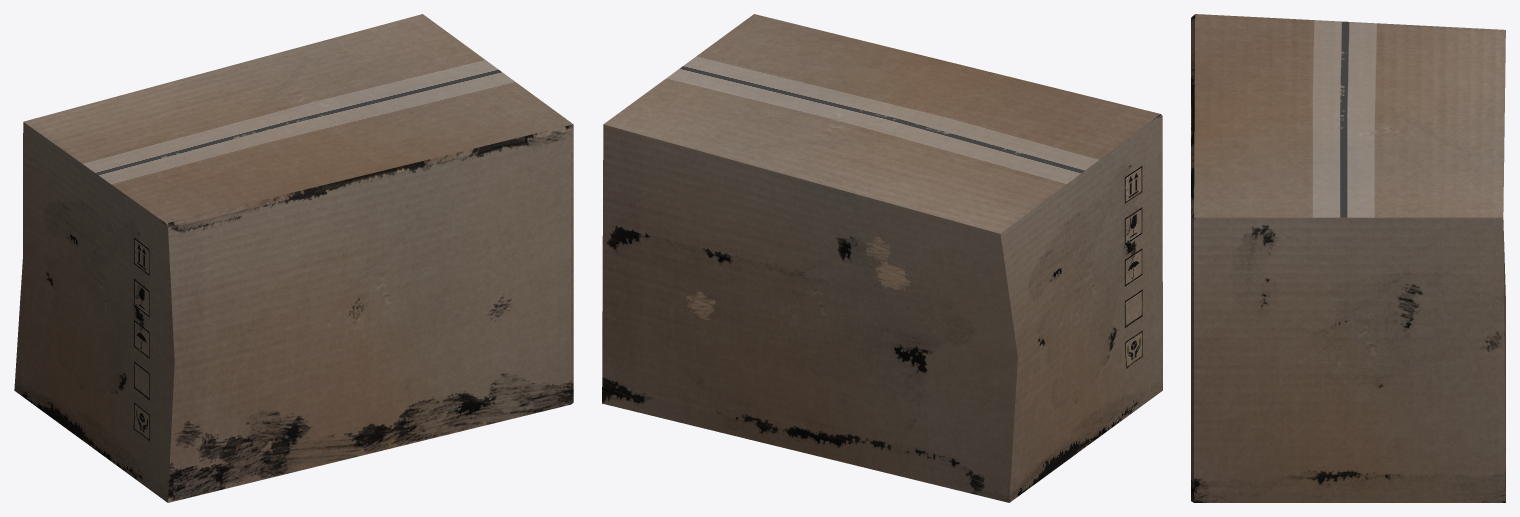
Rendered from carton .fbx.
3 renders of one model, left to right at view 1: azimuth 30°, elevation 25°; view 2: azimuth 150°, elevation 25°; view 3: azimuth 270°, elevation 25°, orthographic. The views are drawn at different scales.
Visible parts, largest first — view 1: Cube.001; view 2: Cube.001; view 3: Cube.001.
Boxes of the visible parts, x1,y1,x2,y2 form: Cube.001: (14,14,573,502); Cube.001: (602,14,1162,502); Cube.001: (1191,14,1505,502).
Bounding box in the file's own units: 70.52 × 46.04 × 46.04.
